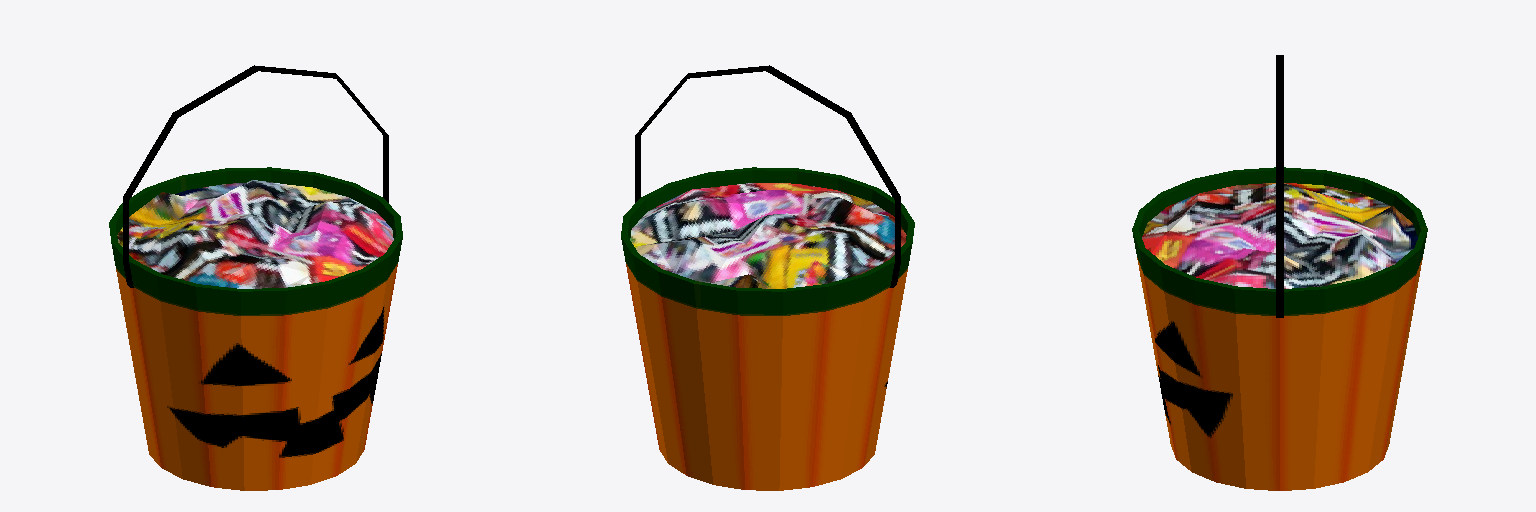
3 views of the same model, side by side, from view 1: azimuth 30°, elevation 25°; view 2: azimuth 150°, elevation 25°; view 3: azimuth 270°, elevation 25° (orthographic).
Parts seen in each view (by area): view 1: Handle1; view 2: Handle1; view 3: Handle1.
Part boxes in pixels (left/top/right/bottom): Handle1: left=109, top=65, right=402, bottom=490; Handle1: left=621, top=65, right=914, bottom=490; Handle1: left=1132, top=55, right=1427, bottom=490.
Bounding box in the file's own units: 1.4 × 1.92 × 1.36.
Materials: 1 (1 with a texture image).